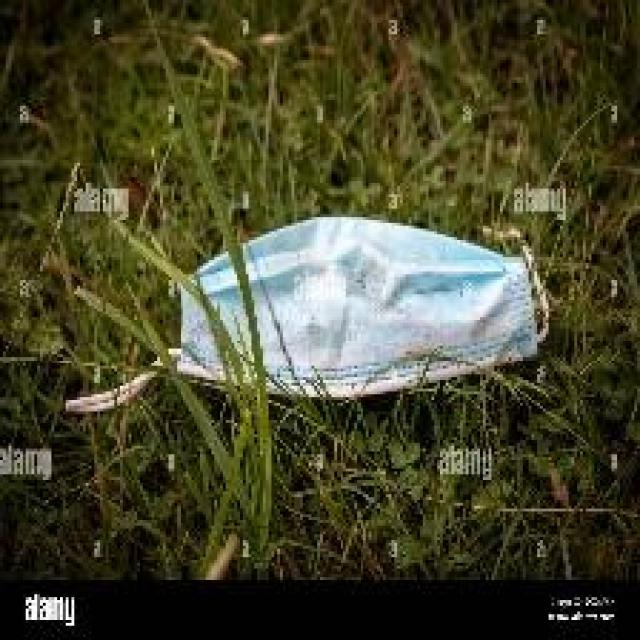Mask: (173, 200, 561, 447)
